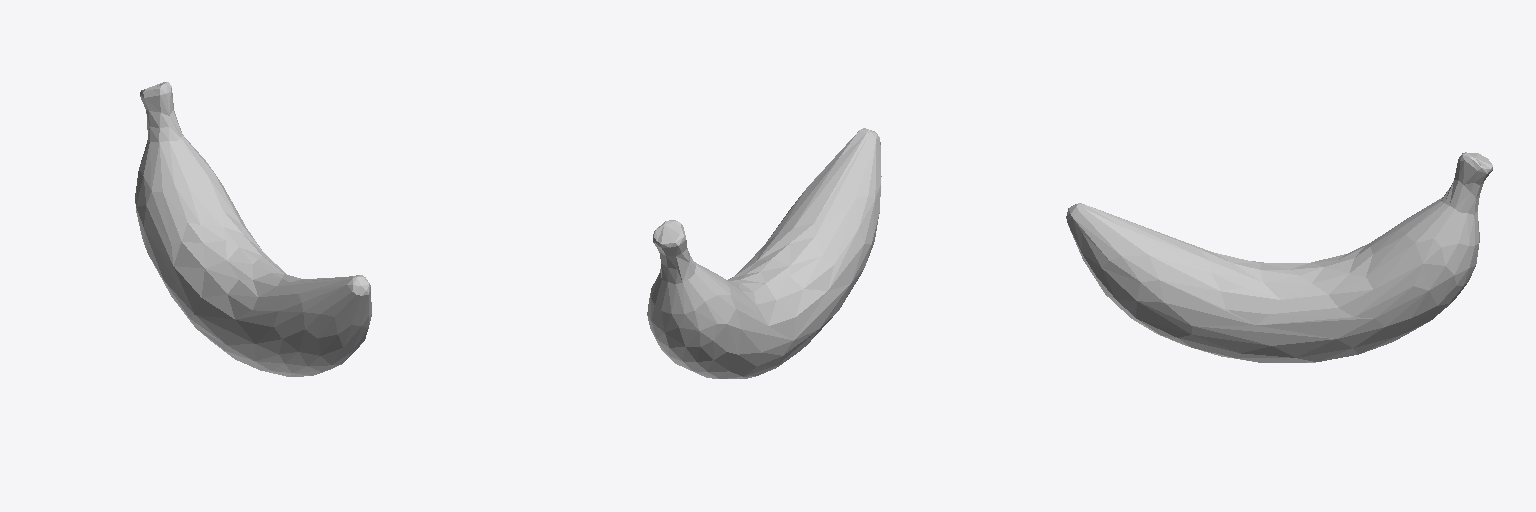
Rendered from Banna.mtl.obj.
3 views of the same model, side by side, from view 1: azimuth 30°, elevation 25°; view 2: azimuth 150°, elevation 25°; view 3: azimuth 270°, elevation 25° (orthographic).
Parts seen in each view (by area): view 1: Cylinder.001_Cylinder.000; view 2: Cylinder.001_Cylinder.000; view 3: Cylinder.001_Cylinder.000.
Part boxes in pixels (x1,y1,x2,y2): Cylinder.001_Cylinder.000: (135,82,371,376); Cylinder.001_Cylinder.000: (647,128,881,378); Cylinder.001_Cylinder.000: (1066,152,1492,362).
Size of the model in its own units: 0.3571 by 0.8066 by 1.51.